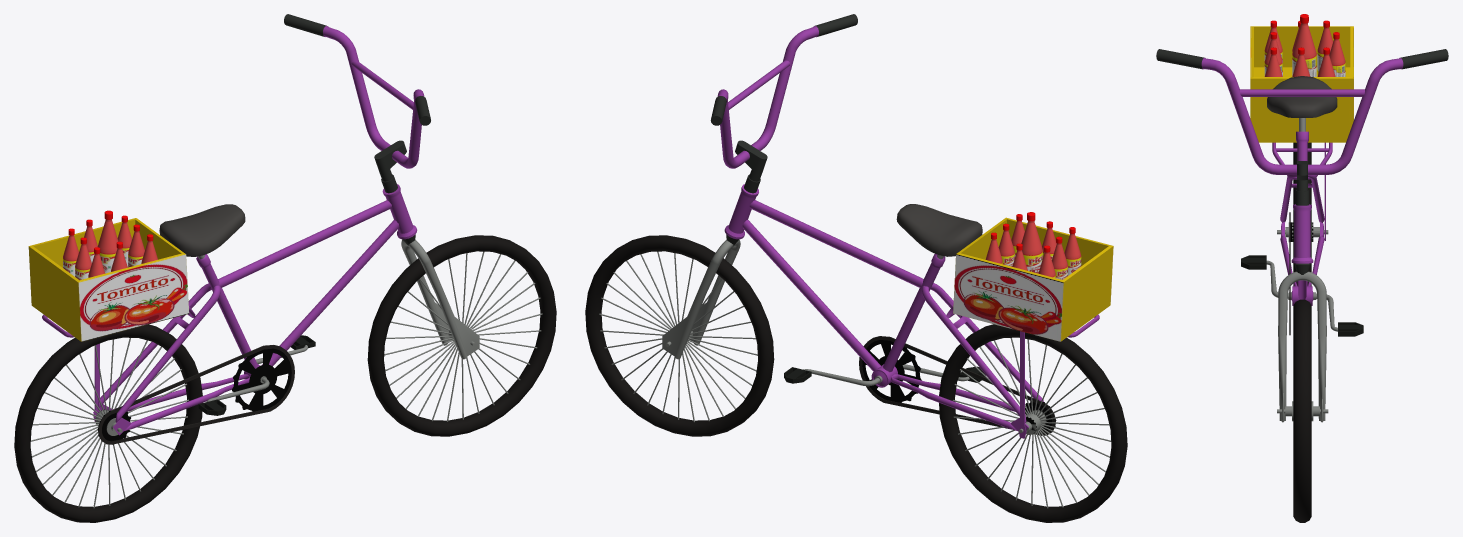
File: bycycle-transformed.glb
3 views of the same model, side by side, from view 1: azimuth 30°, elevation 25°; view 2: azimuth 150°, elevation 25°; view 3: azimuth 270°, elevation 25° (orthographic). The views are drawn at different scales.
Parts seen in each view (by area): view 1: polySurface108; view 2: polySurface108; view 3: polySurface108.
Part boxes in pixels (left/top/right/bottom): polySurface108: left=14, top=14, right=556, bottom=522; polySurface108: left=585, top=14, right=1127, bottom=522; polySurface108: left=1156, top=14, right=1448, bottom=522.
Bounding box in the file's own units: 8.84 × 6.17 × 3.99.
Materials: 4 (4 with a texture image).
